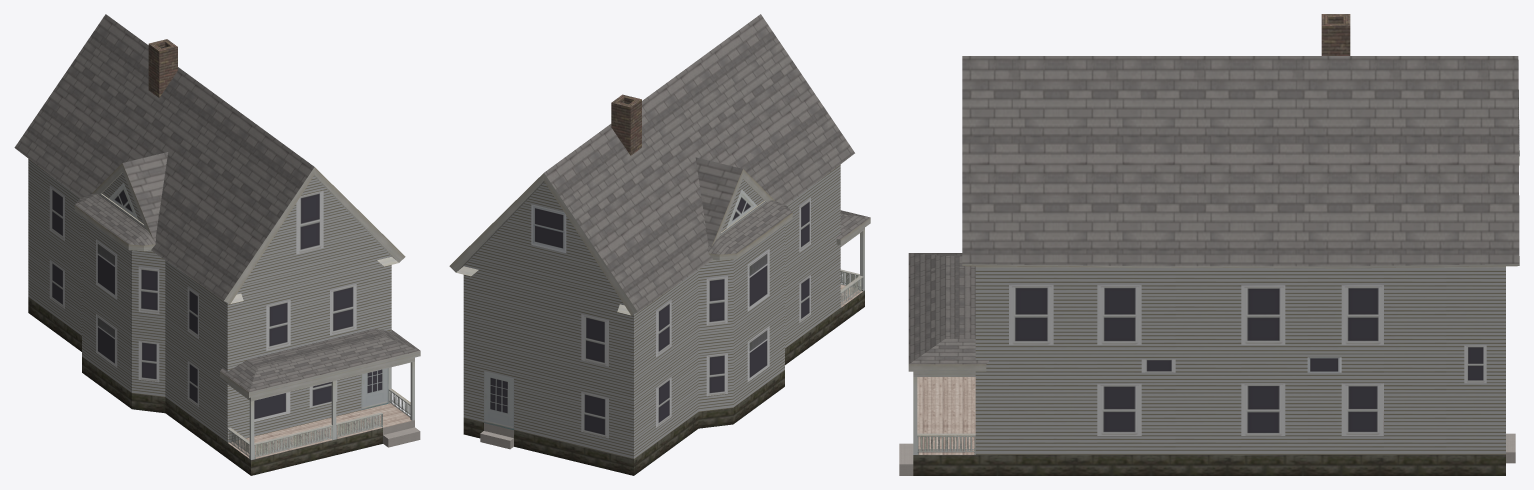
Rendered from large_midwestern_house_1.glb.
3 views of the same model, side by side, from view 1: azimuth 30°, elevation 25°; view 2: azimuth 150°, elevation 25°; view 3: azimuth 270°, elevation 25° (orthographic). The views are drawn at different scales.
Visible parts, largest first — view 1: Object_2; view 2: Object_2; view 3: Object_2.
Boxes of the visible parts, x1,y1,x2,y2 form: Object_2: (14, 14, 420, 475); Object_2: (449, 14, 870, 475); Object_2: (899, 14, 1519, 475).
Size of the model in its own units: 797 by 1126 by 1600.
Materials: 1 (1 with a texture image).
